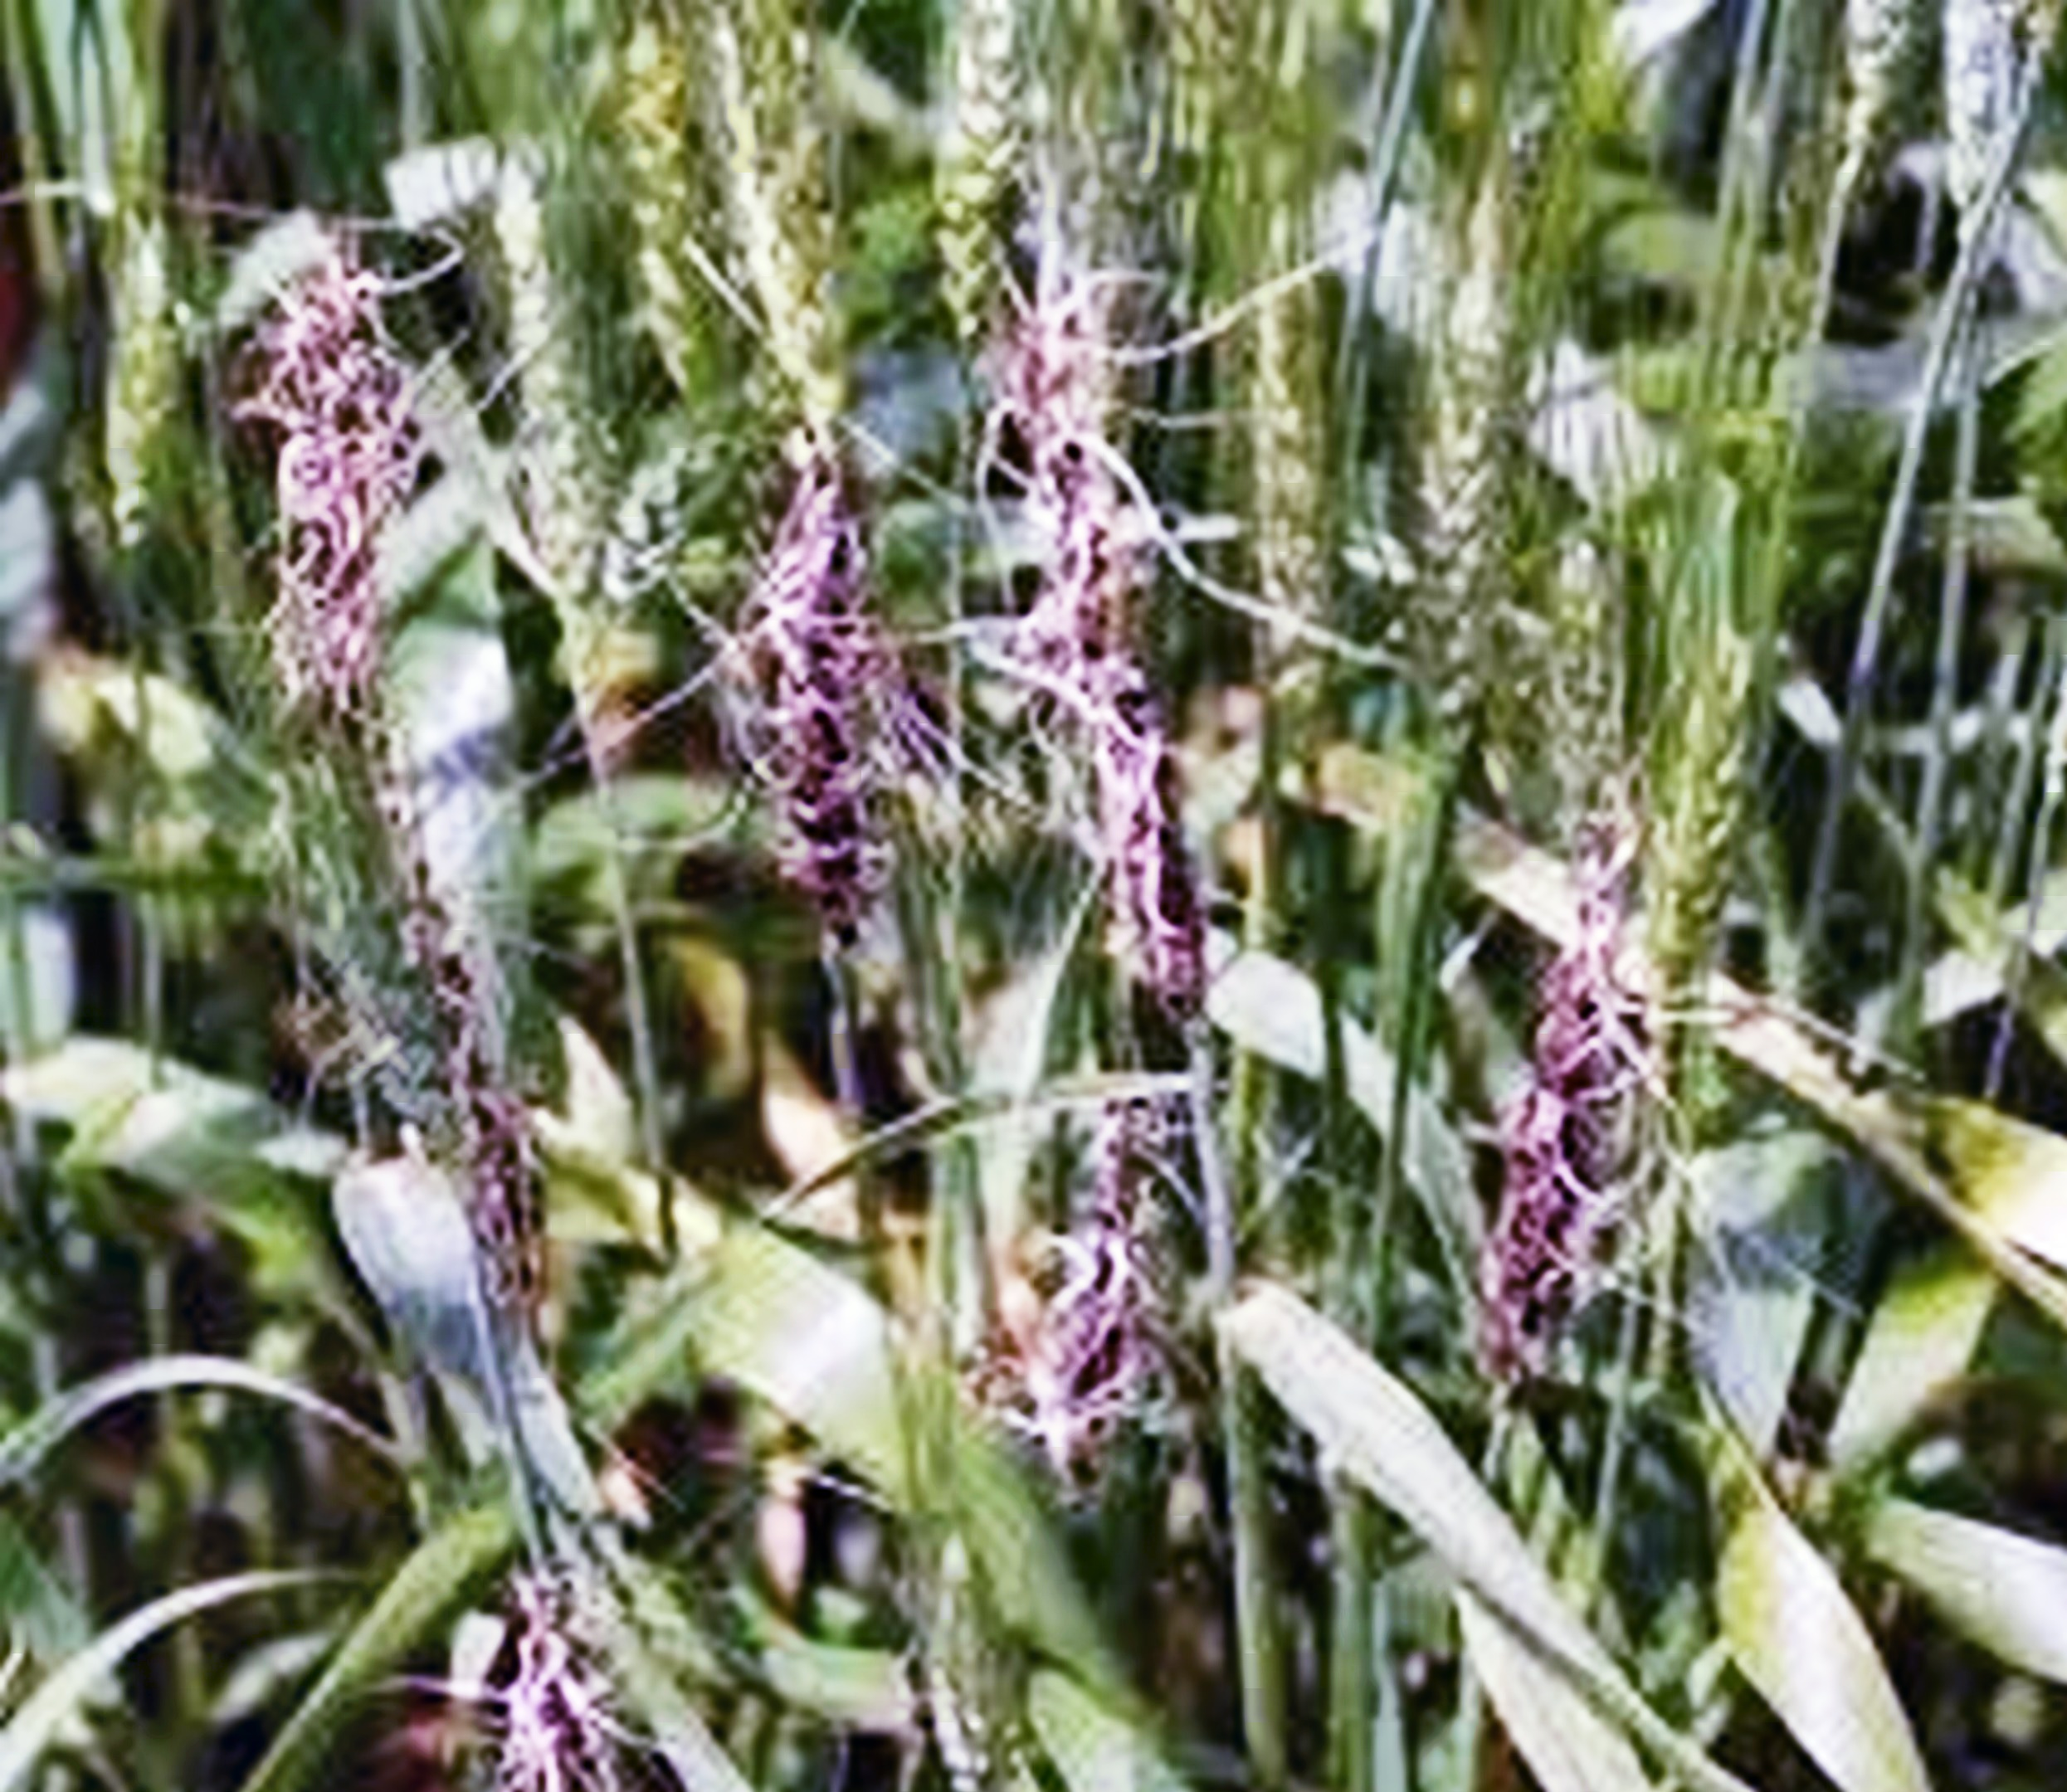Wheat Loose Smut: (729, 476, 925, 942), (1462, 938, 1635, 1383)
